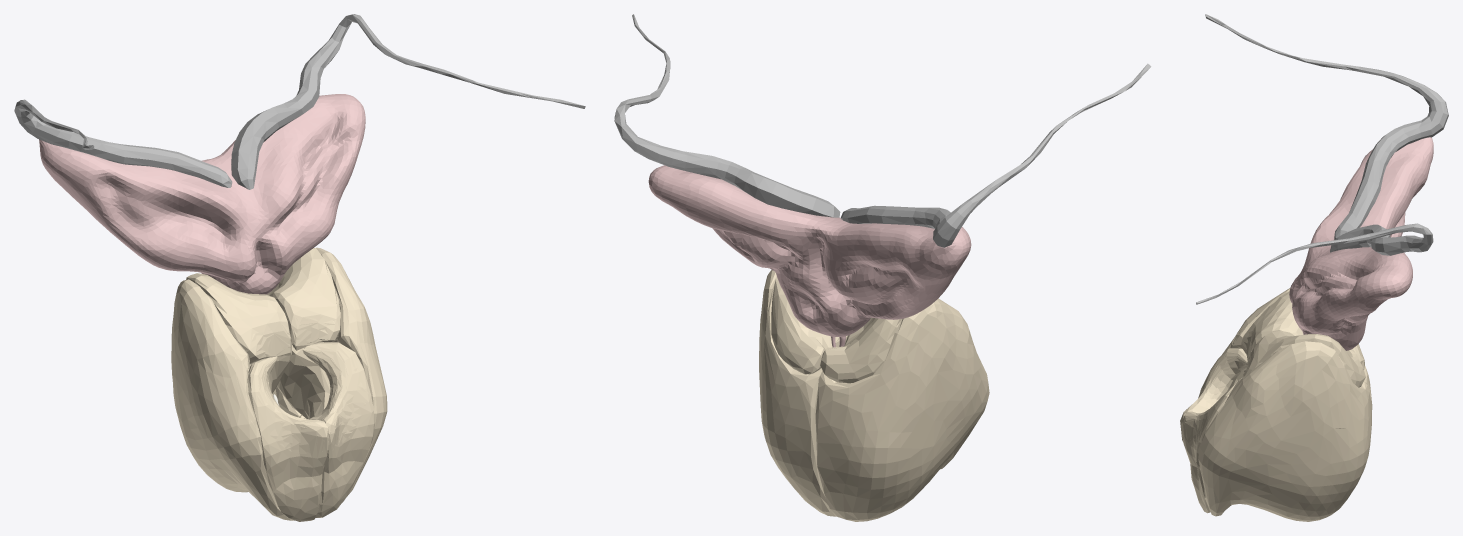
File: VH_M_Prostate_0.4.glb
3 renders of one model, left to right at view 1: azimuth 30°, elevation 25°; view 2: azimuth 150°, elevation 25°; view 3: azimuth 270°, elevation 25°, orthographic. The views are drawn at different scales.
Parts seen in each view (by area): view 1: VH_M_seminal_vesicle, VH_M_peripheral_zone_of_prostate_R, VH_M_anterior_fibromuscular_stroma_R, VH_M_anterior_fibromuscular_stroma_L, VH_M_vas_deferens_R, VH_M_vas_deferens_L, VH_M_central_zone_of_prostate_L, VH_M_peripheral_zone_of_prostate_L, VH_M_base_of_prostate, VH_M_central_zone_of_prostate_R, VH_M_transition_zone__of_prostate_L; view 2: VH_M_peripheral_zone_of_prostate_R, VH_M_seminal_vesicle, VH_M_peripheral_zone_of_prostate_L, VH_M_vas_deferens_R, VH_M_vas_deferens_L, VH_M_central_zone_of_prostate_R, VH_M_central_zone_of_prostate_L; view 3: VH_M_peripheral_zone_of_prostate_L, VH_M_seminal_vesicle, VH_M_vas_deferens_L, VH_M_vas_deferens_R, VH_M_central_zone_of_prostate_L, VH_M_central_zone_of_prostate_R, VH_M_anterior_fibromuscular_stroma_L, VH_M_base_of_prostate, VH_M_anterior_fibromuscular_stroma_R, VH_M_peripheral_zone_of_prostate_R.
Boxes of the visible parts, left/top/right/bottom form: VH_M_seminal_vesicle: left=39, top=94, right=365, bottom=294; VH_M_peripheral_zone_of_prostate_R: left=171, top=279, right=294, bottom=520; VH_M_anterior_fibromuscular_stroma_R: left=247, top=356, right=328, bottom=521; VH_M_anterior_fibromuscular_stroma_L: left=303, top=342, right=374, bottom=517; VH_M_vas_deferens_R: left=231, top=14, right=585, bottom=189; VH_M_vas_deferens_L: left=14, top=99, right=232, bottom=187; VH_M_central_zone_of_prostate_L: left=267, top=248, right=340, bottom=350; VH_M_peripheral_zone_of_prostate_L: left=272, top=247, right=387, bottom=496; VH_M_base_of_prostate: left=235, top=316, right=368, bottom=453; VH_M_central_zone_of_prostate_R: left=186, top=273, right=291, bottom=363; VH_M_transition_zone__of_prostate_L: left=277, top=344, right=330, bottom=418; VH_M_peripheral_zone_of_prostate_R: left=815, top=298, right=989, bottom=521; VH_M_seminal_vesicle: left=648, top=165, right=971, bottom=336; VH_M_peripheral_zone_of_prostate_L: left=759, top=270, right=836, bottom=516; VH_M_vas_deferens_R: left=614, top=14, right=840, bottom=217; VH_M_vas_deferens_L: left=841, top=63, right=1151, bottom=247; VH_M_central_zone_of_prostate_R: left=820, top=317, right=901, bottom=383; VH_M_central_zone_of_prostate_L: left=771, top=277, right=847, bottom=374; VH_M_peripheral_zone_of_prostate_L: left=1198, top=341, right=1371, bottom=521; VH_M_seminal_vesicle: left=1289, top=137, right=1433, bottom=350; VH_M_vas_deferens_L: left=1205, top=14, right=1448, bottom=239; VH_M_vas_deferens_R: left=1196, top=223, right=1433, bottom=304; VH_M_central_zone_of_prostate_L: left=1242, top=331, right=1365, bottom=387; VH_M_central_zone_of_prostate_R: left=1241, top=291, right=1364, bottom=369; VH_M_anterior_fibromuscular_stroma_L: left=1181, top=378, right=1241, bottom=513; VH_M_base_of_prostate: left=1182, top=323, right=1254, bottom=445; VH_M_anterior_fibromuscular_stroma_R: left=1180, top=348, right=1247, bottom=441; VH_M_peripheral_zone_of_prostate_R: left=1200, top=288, right=1372, bottom=409.
Bounding box in the file's own units: 0.0832 × 0.0706 × 0.0429.
